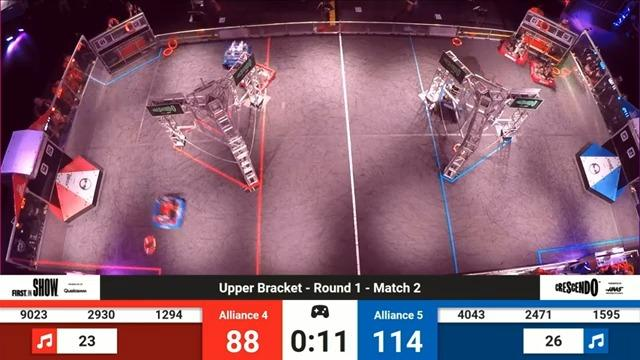robot: (143, 184, 197, 236), (428, 79, 479, 116), (241, 61, 284, 95), (497, 30, 533, 69), (221, 42, 256, 71), (532, 55, 558, 84)
